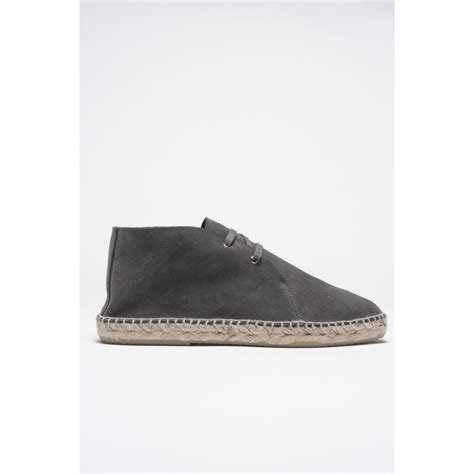gamuza: (97, 217, 383, 324)
